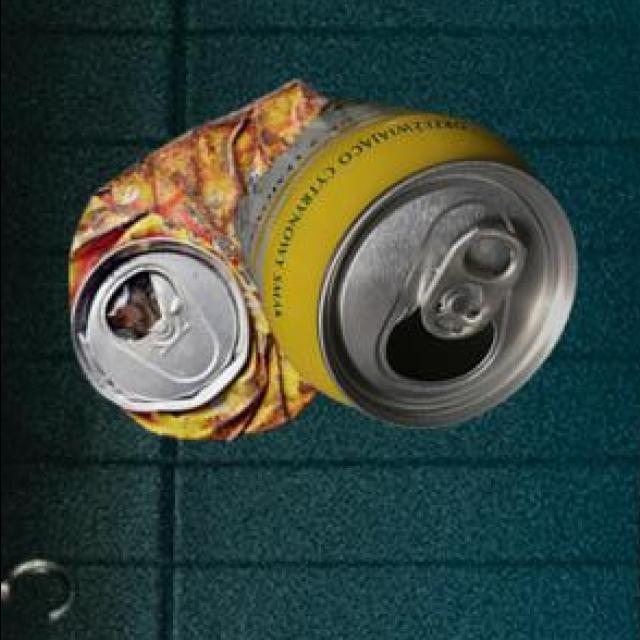logam: (227, 101, 571, 430), (66, 84, 325, 443)
